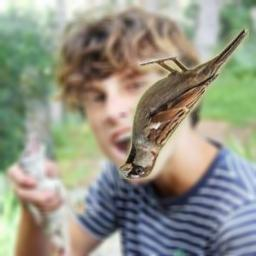Sparrow: (119, 29, 249, 179)
